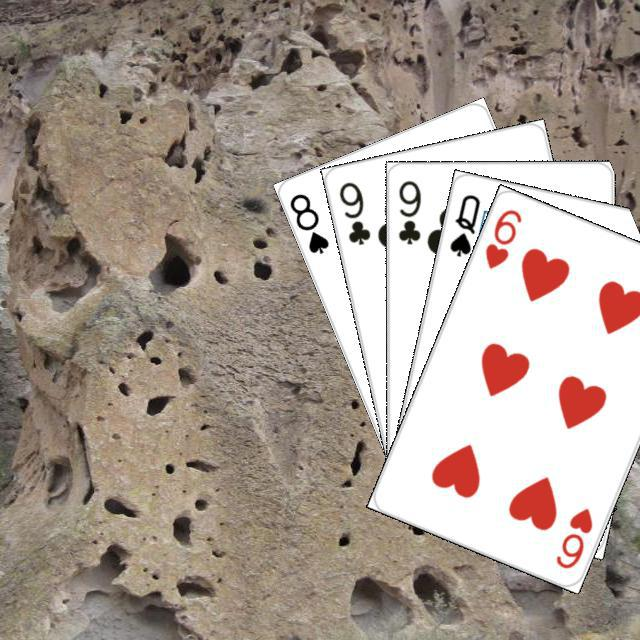6h: (550, 503, 595, 571), (480, 204, 524, 271)
8s: (285, 188, 331, 256)
9c: (334, 177, 372, 247), (393, 176, 422, 246)
Qs: (445, 189, 482, 258)
